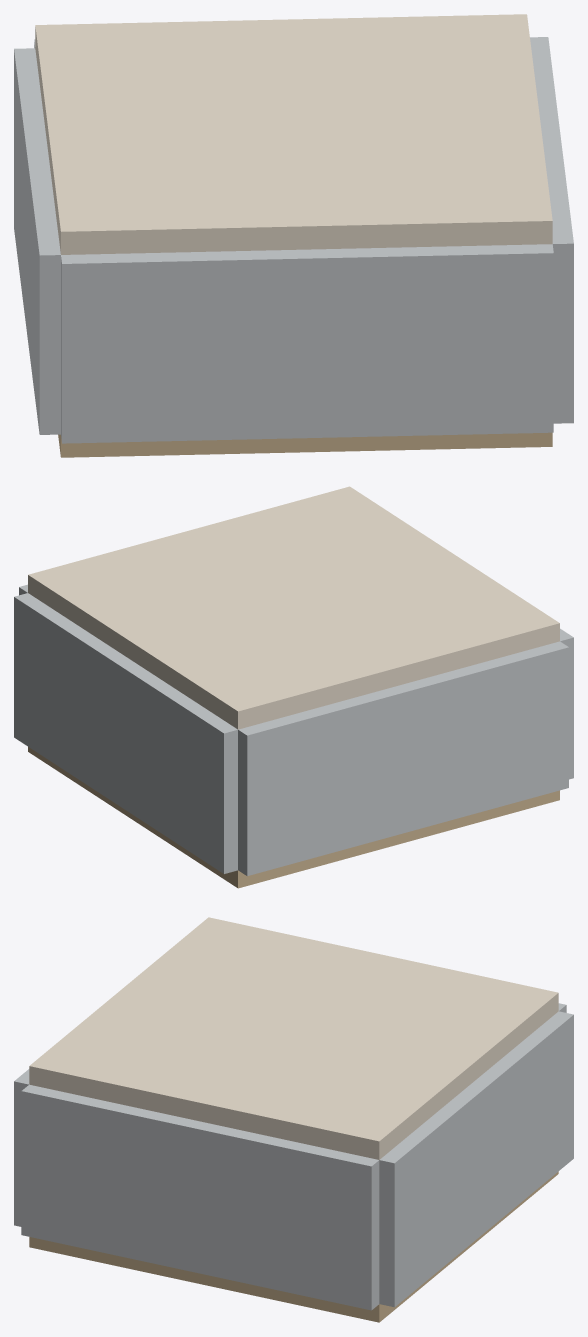
The picture shows the model from 3 angles, top to bottom: view 1: azimuth 30°, elevation 25°; view 2: azimuth 150°, elevation 25°; view 3: azimuth 270°, elevation 25°; orthographic projection. The views are drawn at different scales.
Parts seen in each view (by area): view 1: Ceiling, Wall_01, Wall_04, Wall_02, Floor; view 2: Ceiling, Wall_04, Wall_03, Floor, Wall_01; view 3: Ceiling, Wall_02, Wall_03, Floor, Wall_01.
Part boxes in pixels (box(x1,y1,x2,y2)): Ceiling: box(35, 14, 552, 254); Wall_01: box(61, 244, 553, 443); Wall_04: box(14, 48, 60, 434); Wall_02: box(530, 37, 573, 423); Floor: box(58, 432, 552, 457); Ceiling: box(28, 486, 559, 729); Wall_04: box(238, 641, 568, 876); Wall_03: box(14, 593, 237, 873); Floor: box(28, 747, 559, 888); Wall_01: box(560, 628, 573, 779); Ceiling: box(29, 917, 558, 1159); Wall_02: box(21, 1084, 379, 1310); Wall_03: box(379, 1011, 573, 1307); Floor: box(29, 1171, 558, 1322); Wall_01: box(14, 1069, 29, 1226).
Size of the model in its own units: 8.19 by 2.92 by 8.18.
